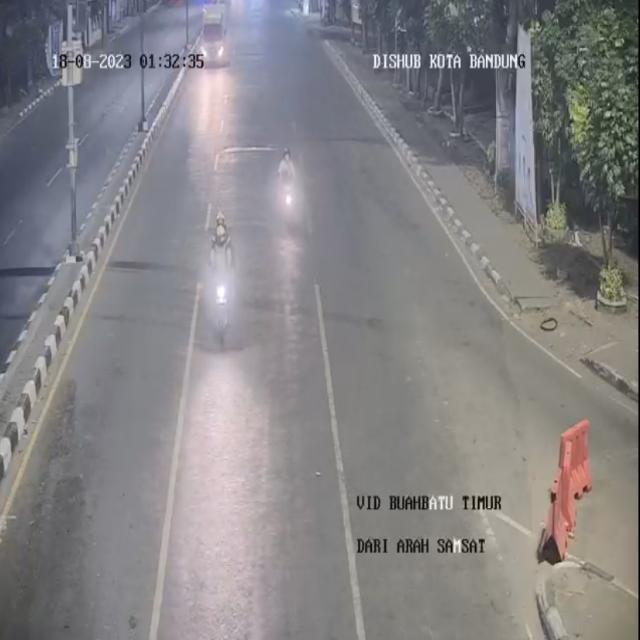cars: (194, 8, 231, 78)
motorcycle: (194, 204, 238, 352), (268, 144, 306, 240)
